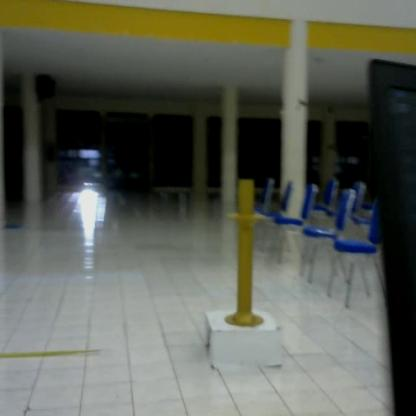pole: (221, 178, 272, 332)
